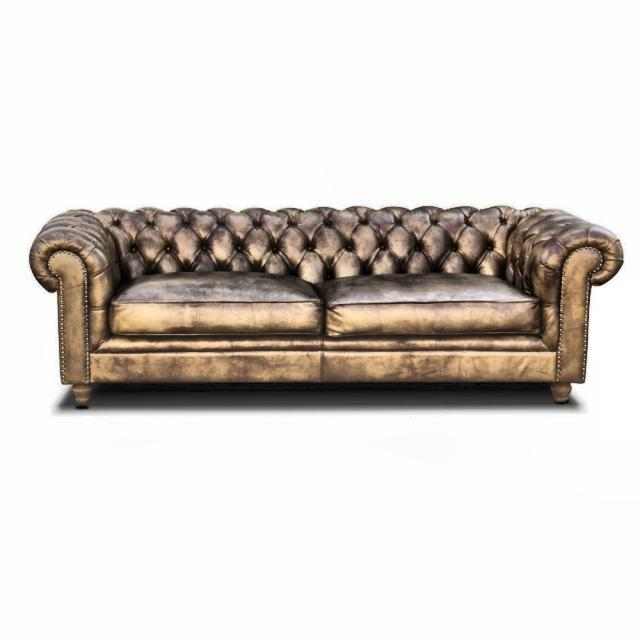sofa: (28, 202, 624, 408)
